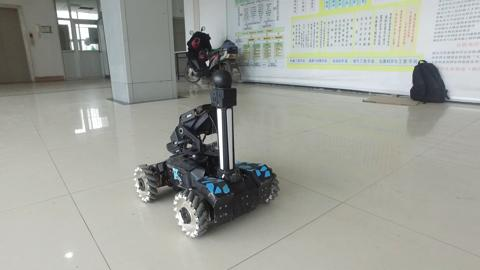bag: (402, 55, 456, 109)
chariot: (122, 65, 291, 248)
